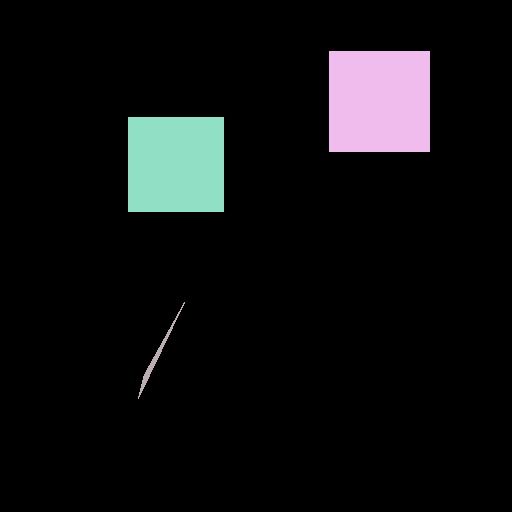square: (329, 51, 429, 151), (128, 117, 223, 211)
triangle: (138, 302, 184, 398)
